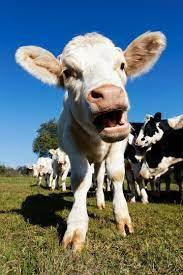cow: (16, 30, 168, 251), (125, 122, 148, 207), (137, 142, 183, 183), (133, 112, 183, 148), (49, 147, 71, 192), (28, 157, 53, 187)
